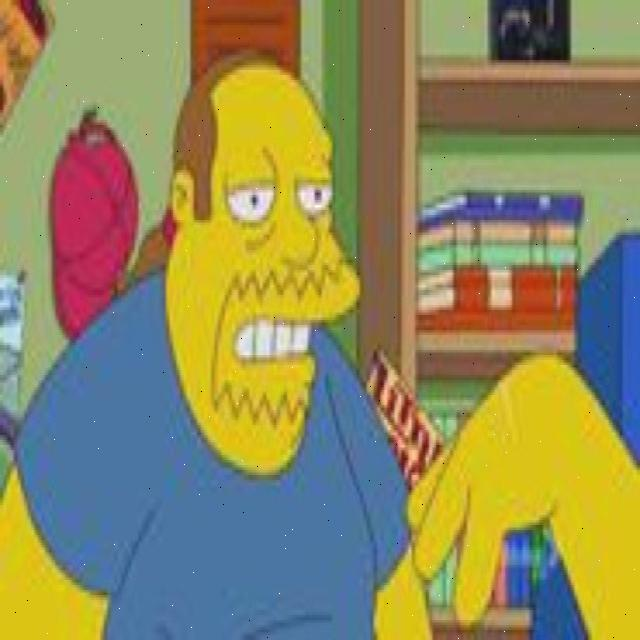Comic Book Guy: (150, 45, 362, 480)
